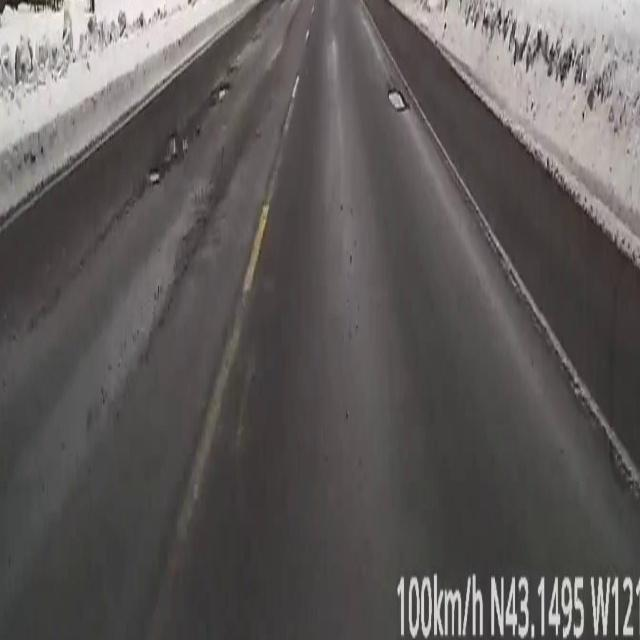pothole: (146, 120, 201, 186), (207, 82, 230, 106), (388, 89, 408, 110)
